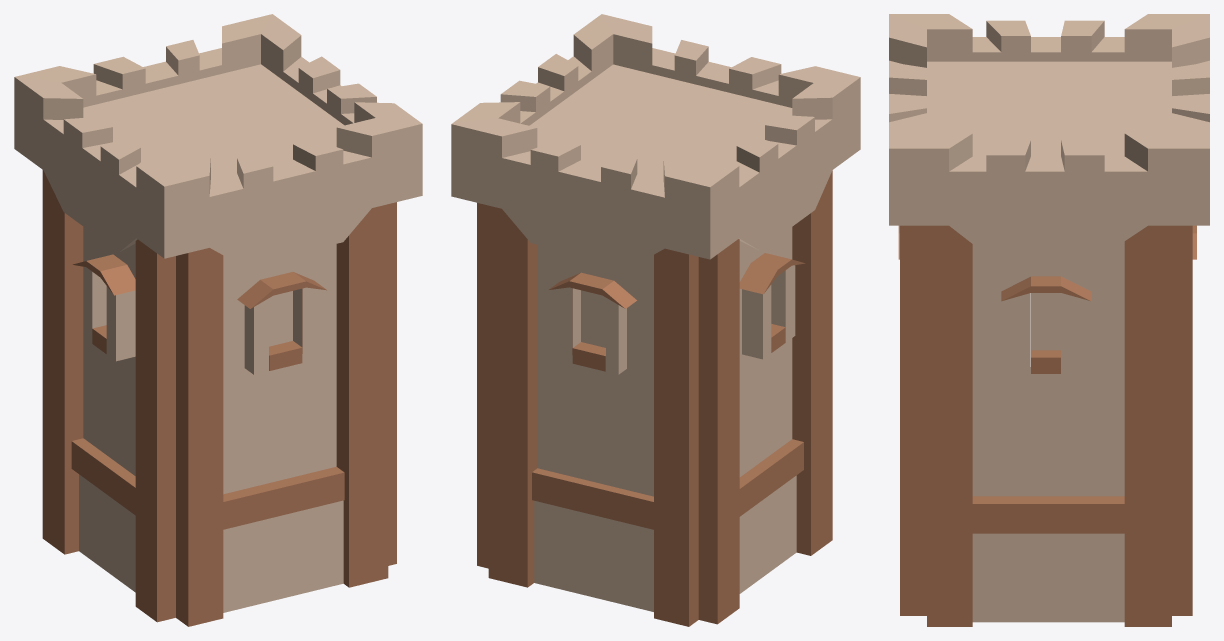
Rendered from tower.gltf.
3 views of the same model, side by side, from view 1: azimuth 30°, elevation 25°; view 2: azimuth 150°, elevation 25°; view 3: azimuth 270°, elevation 25° (orthographic). The views are drawn at different scales.
Visible parts, largest first — view 1: Tower; view 2: Tower; view 3: Tower.
Boxes of the visible parts, bbox=[...] form: Tower: bbox=[14, 14, 422, 626]; Tower: bbox=[451, 14, 860, 626]; Tower: bbox=[889, 14, 1209, 626].
Bounding box in the file's own units: 3.01 × 5.02 × 3.03.
Materials: 1 (1 with a texture image).
